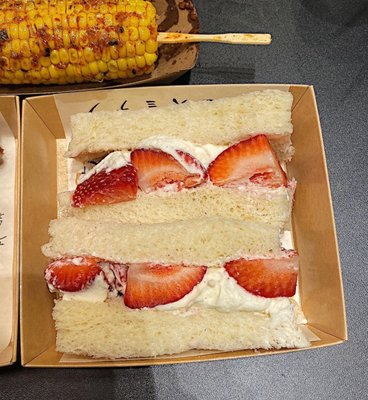soup: (35, 116, 308, 359)
